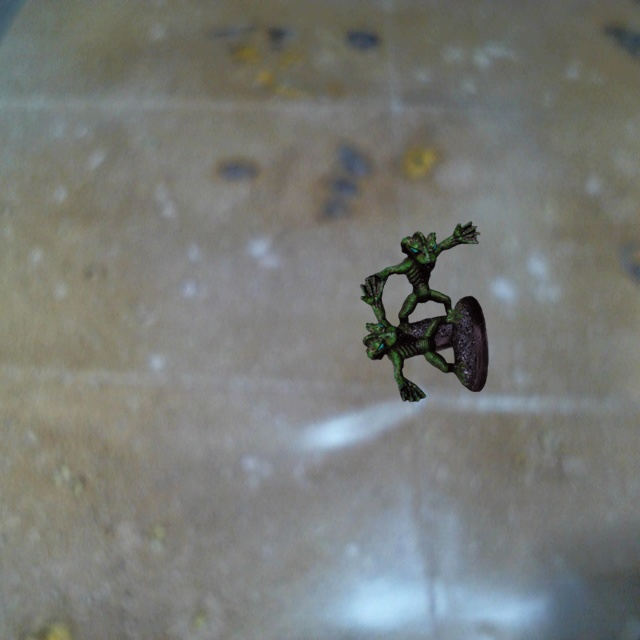pieza_juego: (360, 277, 488, 401), (365, 221, 479, 356)
